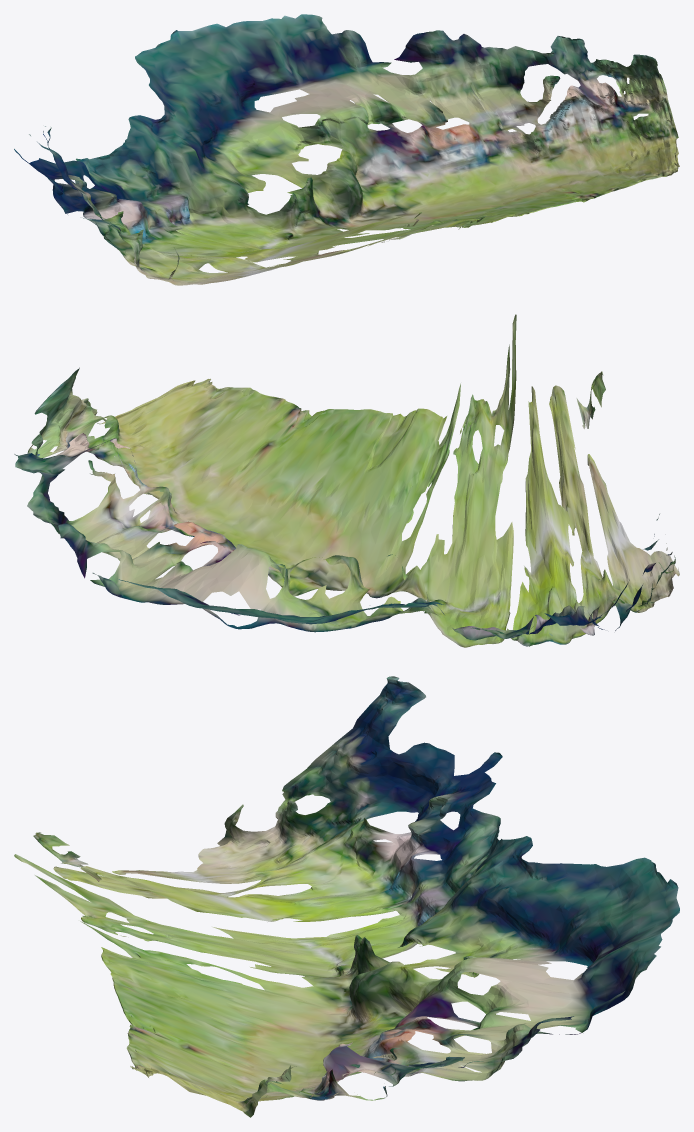
File: render_lod1.glb
3 renders of one model, top to bottom at view 1: azimuth 30°, elevation 25°; view 2: azimuth 150°, elevation 25°; view 3: azimuth 270°, elevation 25°, orthographic. The views are drawn at different scales.
Parts seen in each view (by area): view 1: geometry_0; view 2: geometry_0; view 3: geometry_0.
Part boxes in pixels (x1,y1,x2,y2): geometry_0: [14, 14, 679, 285]; geometry_0: [14, 314, 679, 647]; geometry_0: [14, 676, 679, 1117].
Size of the model in its own units: 33.79 by 8.6 by 29.3.
